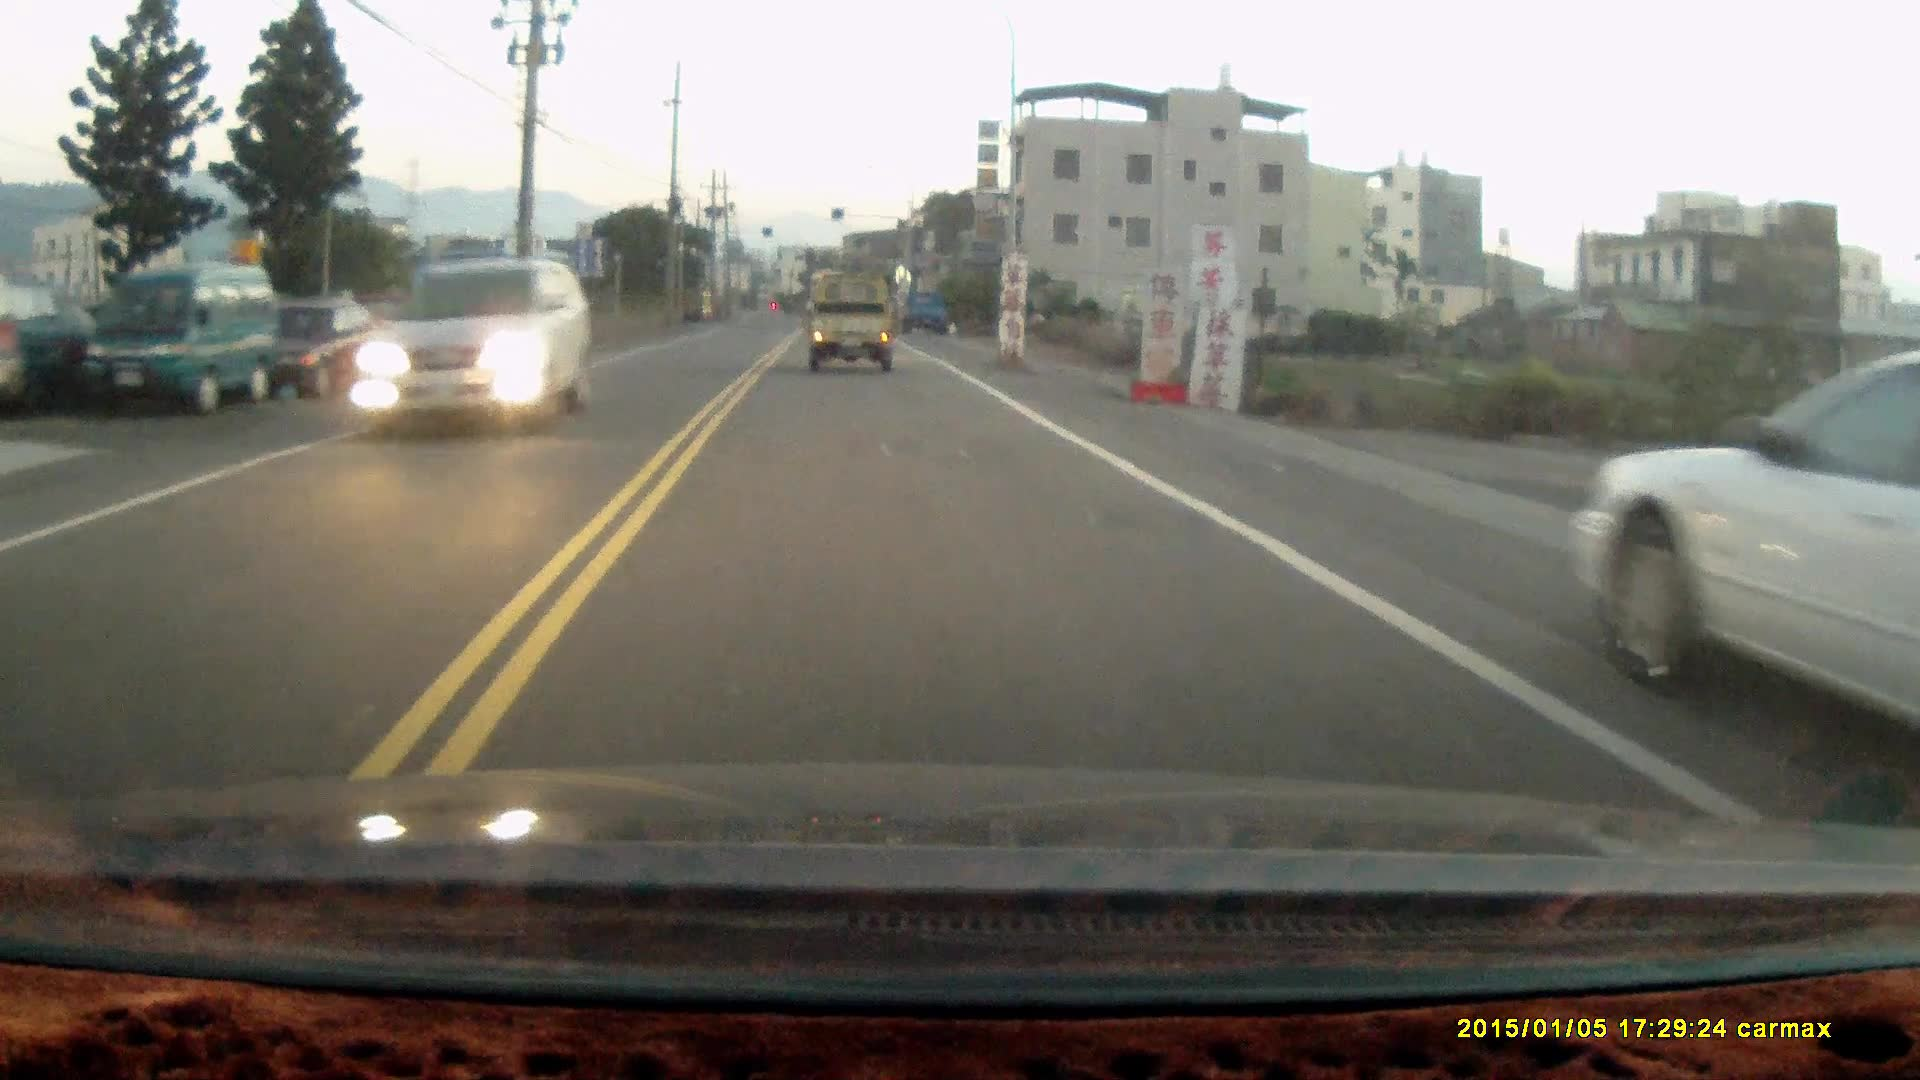vehicle: (1575, 355, 1920, 745), (365, 258, 589, 456), (74, 257, 276, 410), (253, 291, 402, 407), (807, 276, 899, 373), (901, 291, 953, 336)
